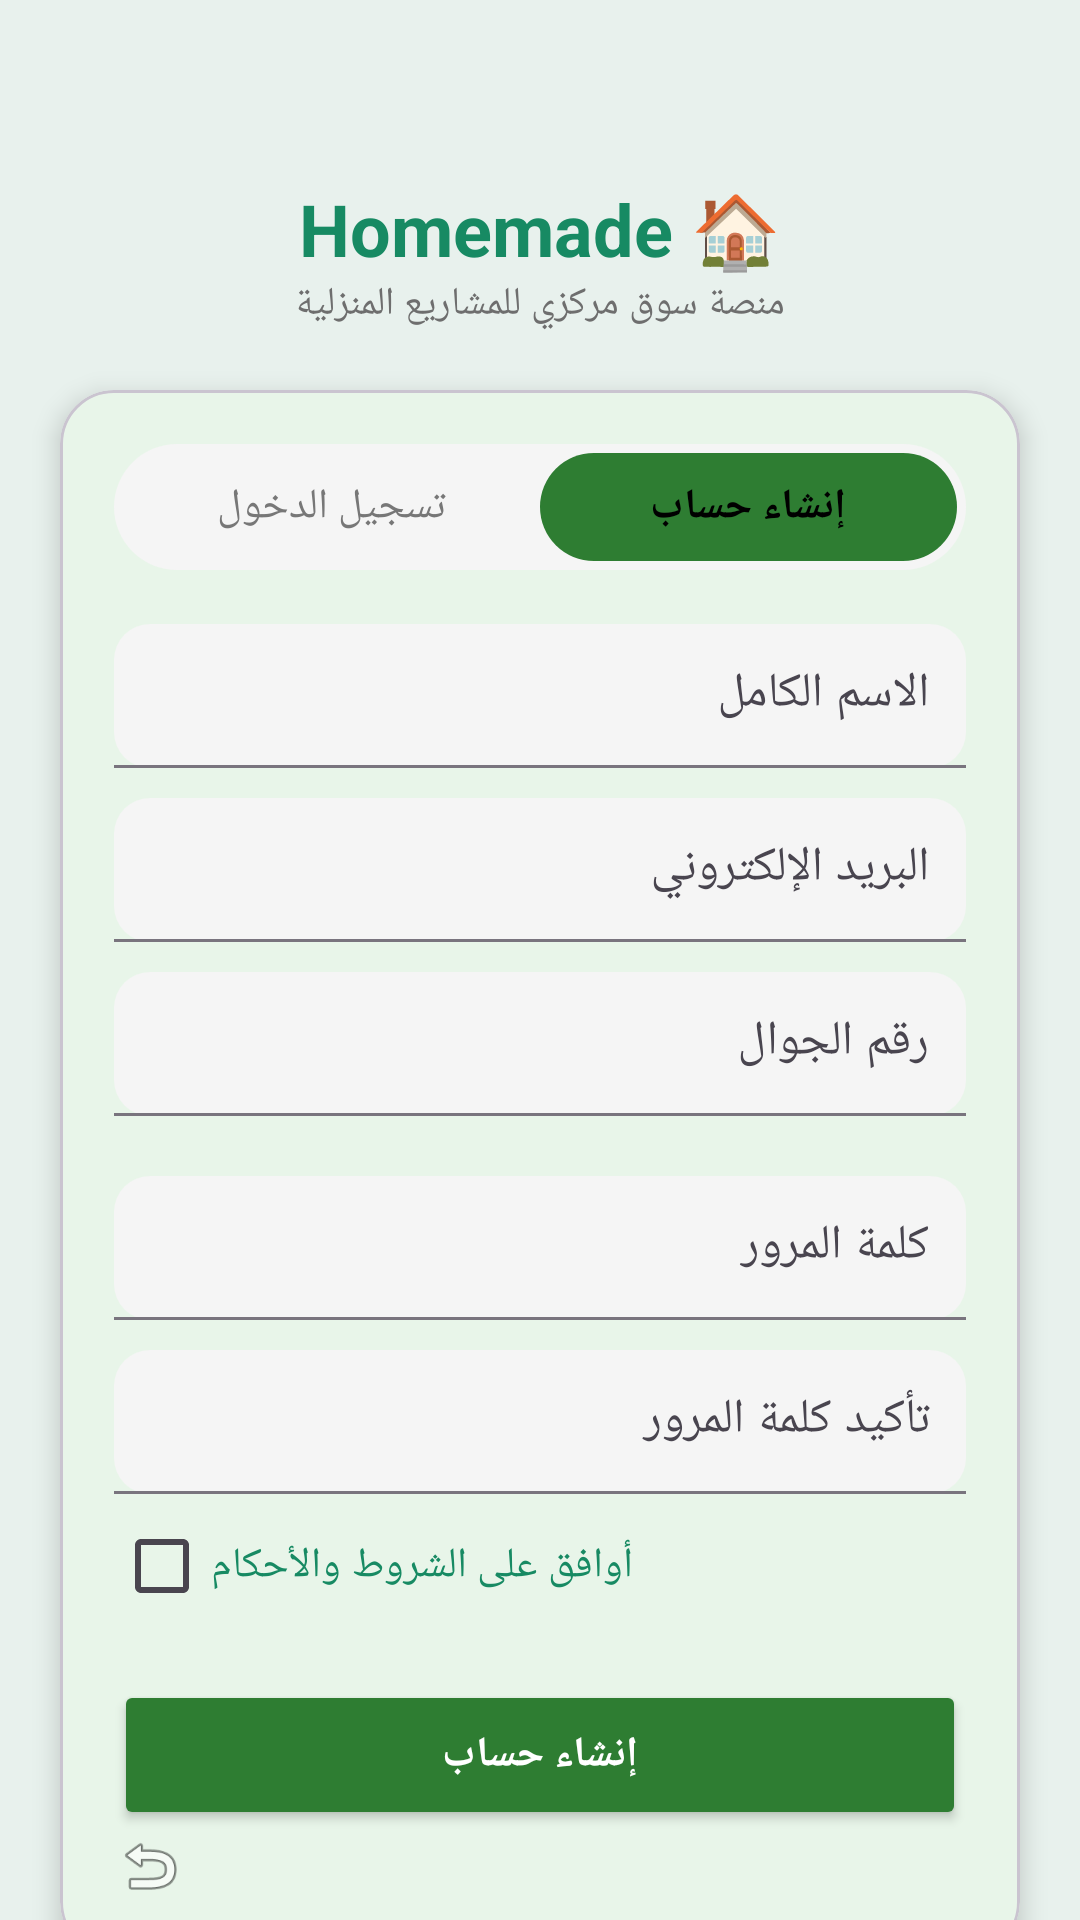

Named icons in this screenshot (1080 x 1920) and their centers, (x,y):
revert: (151,1866)
